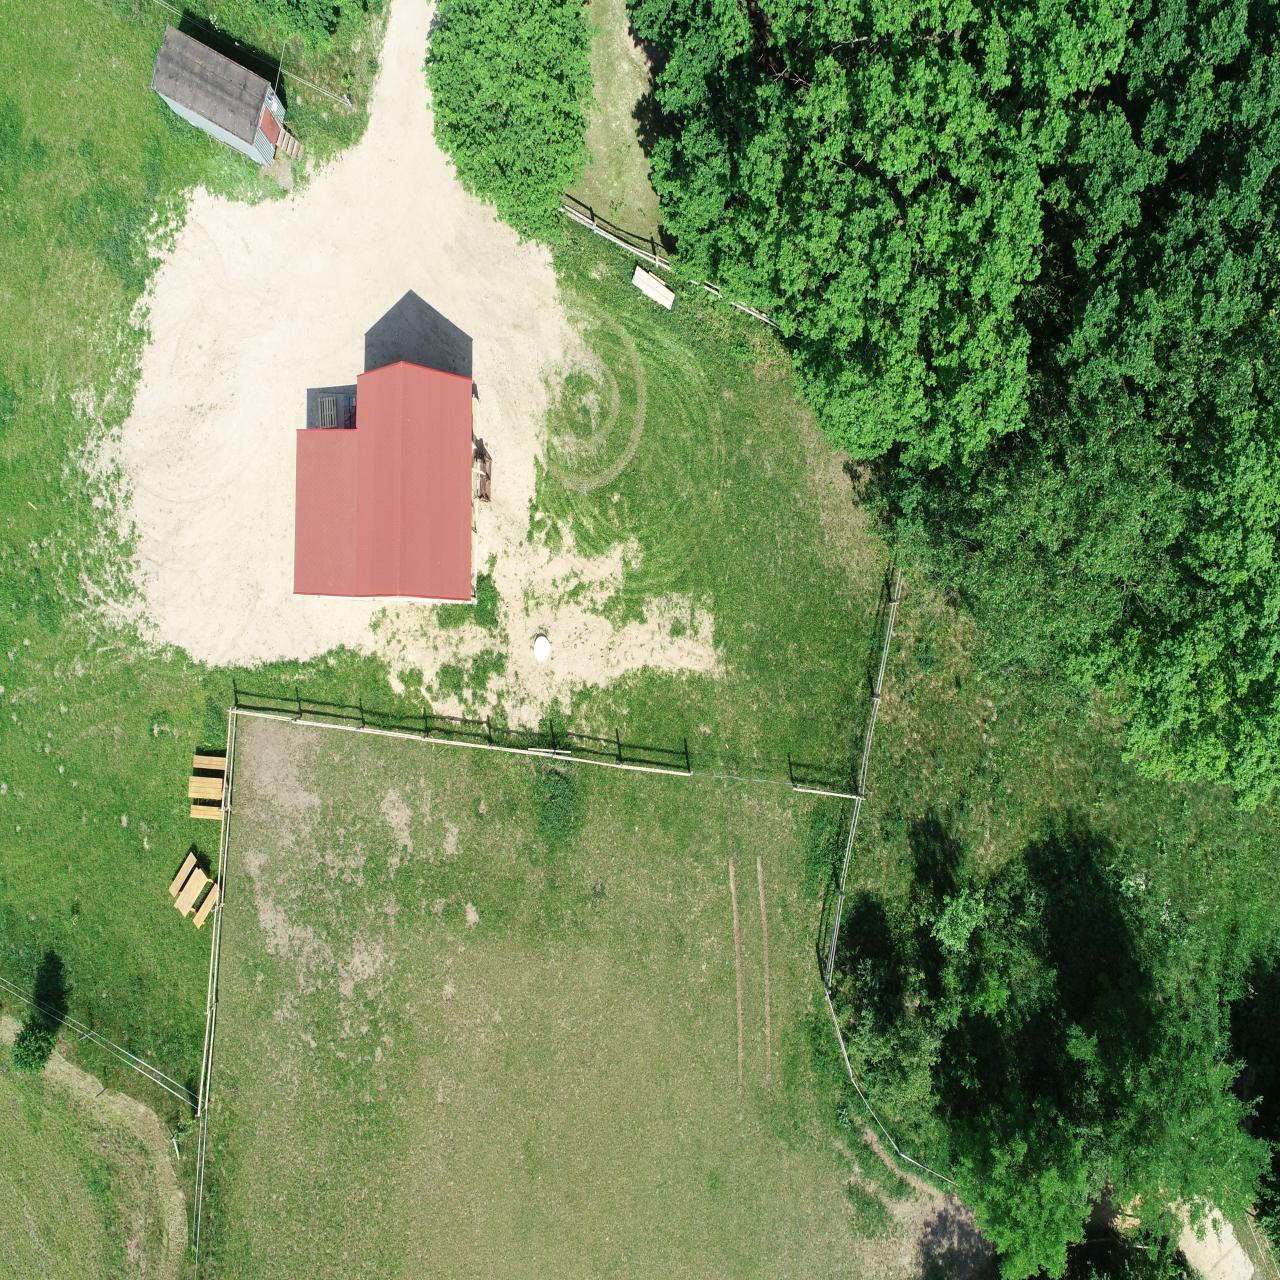cow: (1164, 139, 1197, 190), (919, 97, 946, 157), (804, 525, 842, 564), (696, 595, 729, 639), (790, 36, 810, 102), (915, 331, 952, 366), (846, 75, 865, 136), (765, 211, 784, 267), (658, 87, 673, 155), (774, 674, 809, 701), (641, 0, 661, 38)
